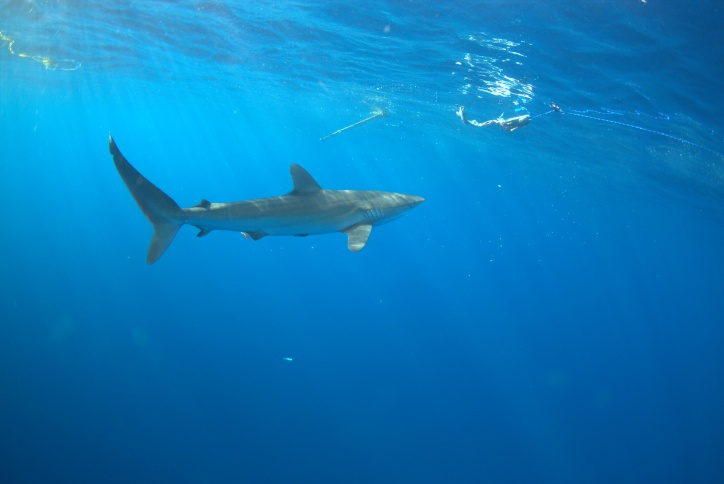Sedoso: (86, 125, 441, 274)
